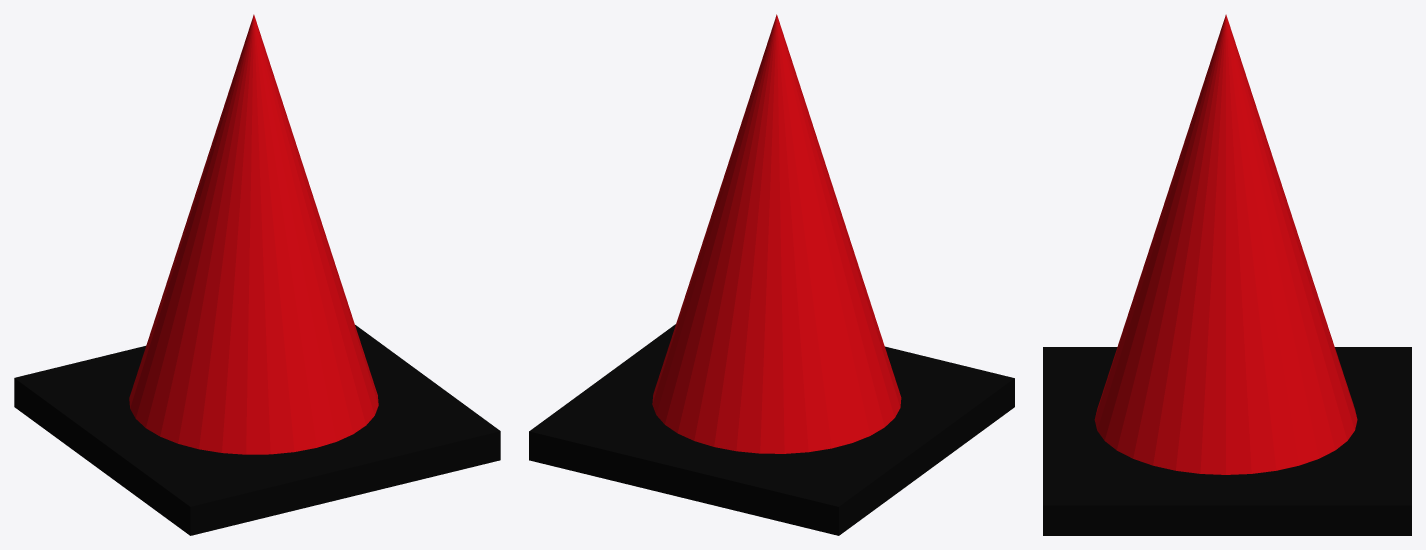
The picture shows the model from 3 angles, left to right: view 1: azimuth 30°, elevation 25°; view 2: azimuth 150°, elevation 25°; view 3: azimuth 270°, elevation 25°; orthographic projection. The views are drawn at different scales.
Visible parts, largest first — view 1: 円錐.002; view 2: 円錐.002; view 3: 円錐.002.
Part boxes in pixels (bbox=[...]): 円錐.002: bbox=[14, 14, 500, 535]; 円錐.002: bbox=[529, 14, 1014, 535]; 円錐.002: bbox=[1043, 14, 1411, 535].
Size of the model in its own units: 1.3 by 1.69 by 1.28.
